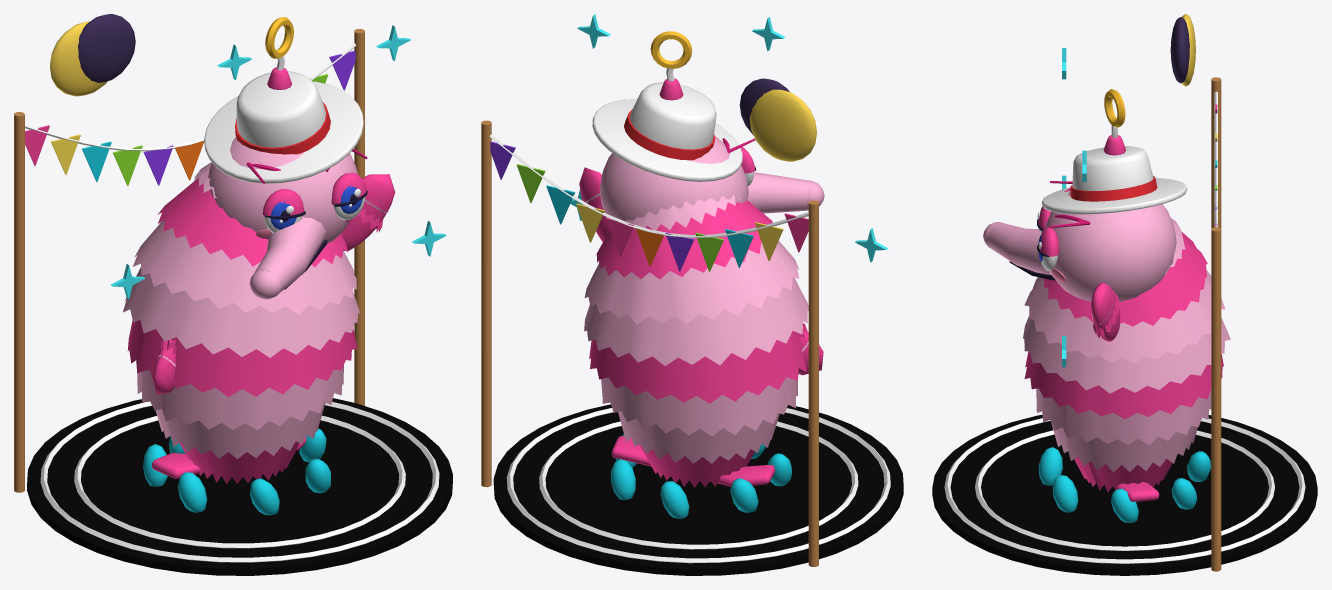
The model's file is boto_bailao.obj.
3 views of the same model, side by side, from view 1: azimuth 30°, elevation 25°; view 2: azimuth 150°, elevation 25°; view 3: azimuth 270°, elevation 25° (orthographic). The views are drawn at different scales.
Parts seen in each view (by area): view 1: boto_bailao, boto_bailao_Neon; view 2: boto_bailao, boto_bailao_Neon; view 3: boto_bailao, boto_bailao_Neon.
Part boxes in pixels (<box>): boto_bailao: <box>14,14,452,575</box>; boto_bailao_Neon: <box>50,21,446,299</box>; boto_bailao: <box>481,31,903,575</box>; boto_bailao_Neon: <box>570,14,888,262</box>; boto_bailao: <box>932,17,1317,575</box>; boto_bailao_Neon: <box>1062,14,1195,367</box>.
Size of the model in its own units: 3.8 by 4.67 by 3.8.
Materials: 2 (2 with a texture image).
